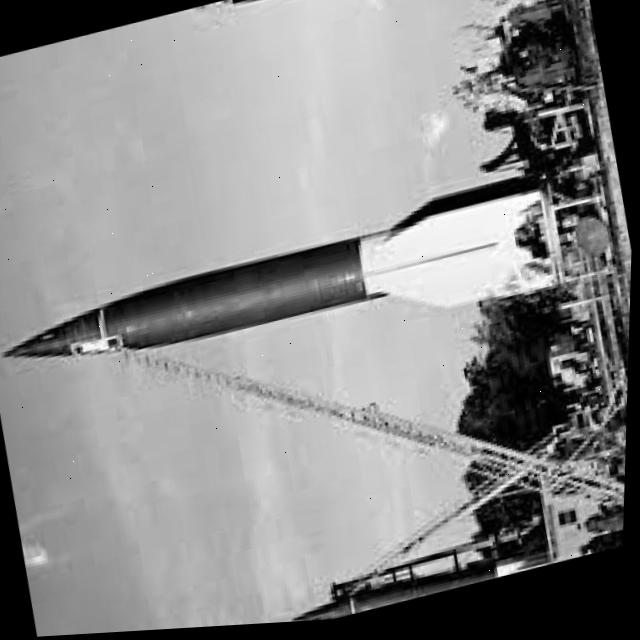missile: (0, 172, 565, 429)
